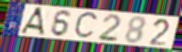2: (147, 18, 173, 47), (98, 13, 122, 42)
6: (50, 9, 73, 38)
8: (124, 15, 148, 45)
A: (19, 7, 46, 37)
C: (72, 10, 100, 41)
